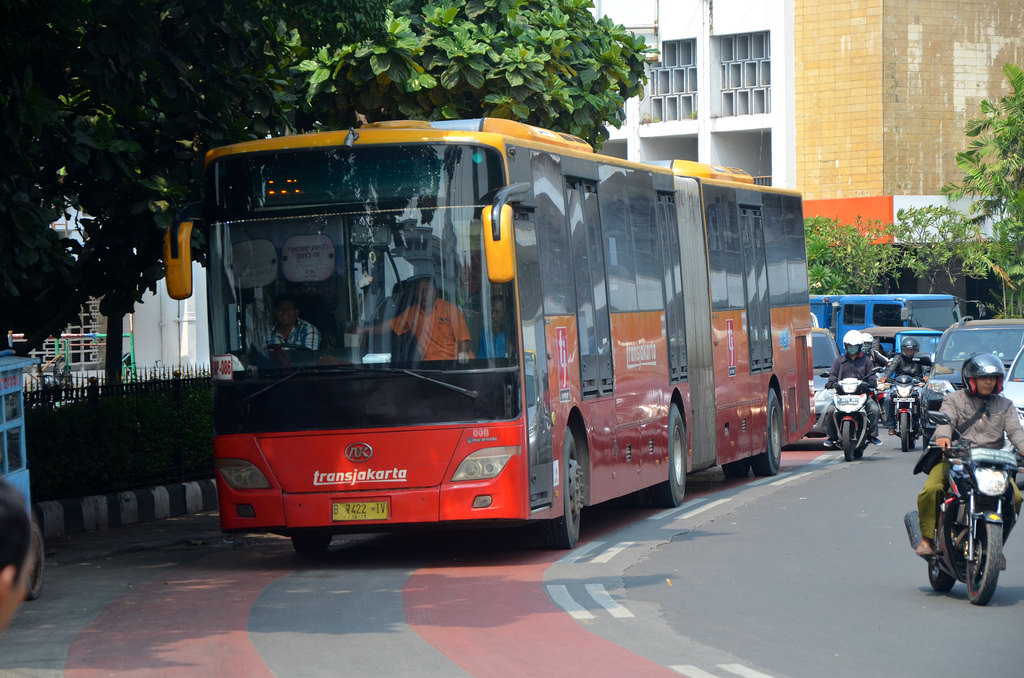plate: (334, 497, 386, 521)
